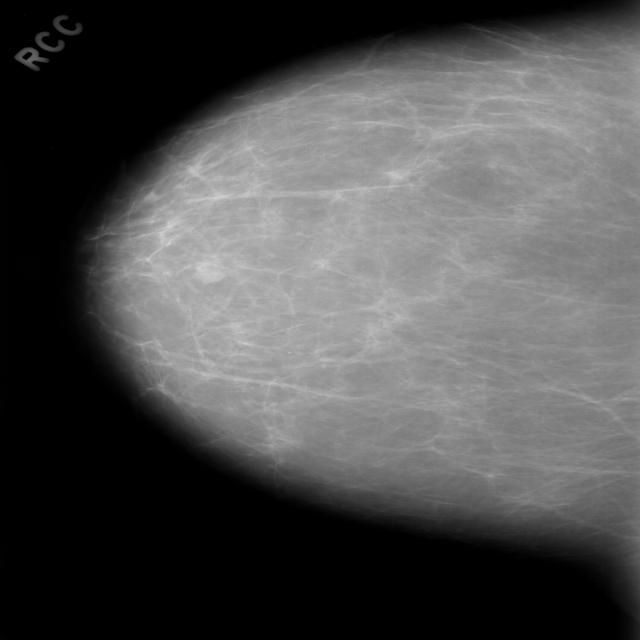normal: (79, 21, 640, 567)
